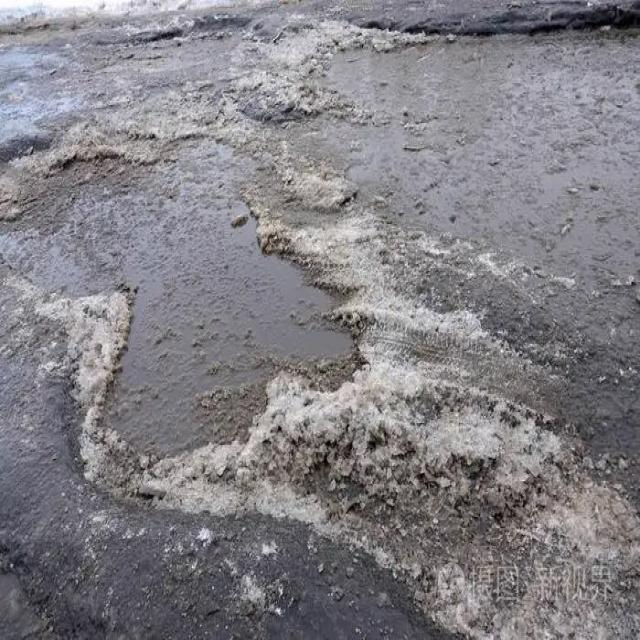Pothole: (9, 147, 375, 474)
